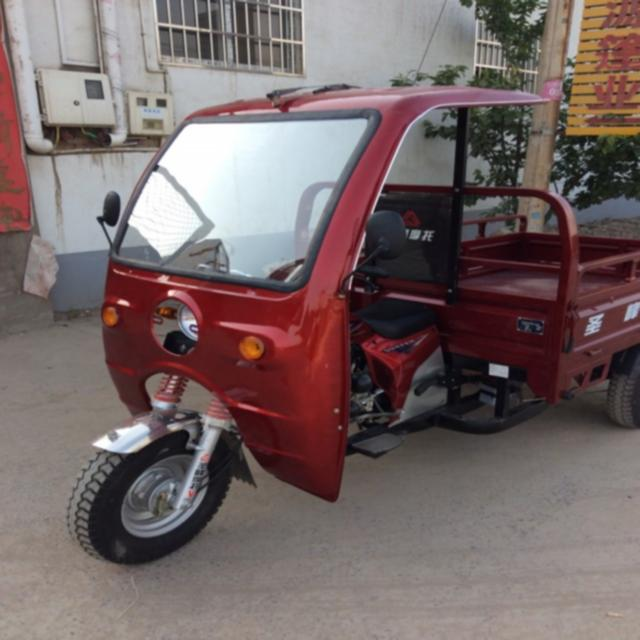tricycle: (60, 82, 639, 566)
